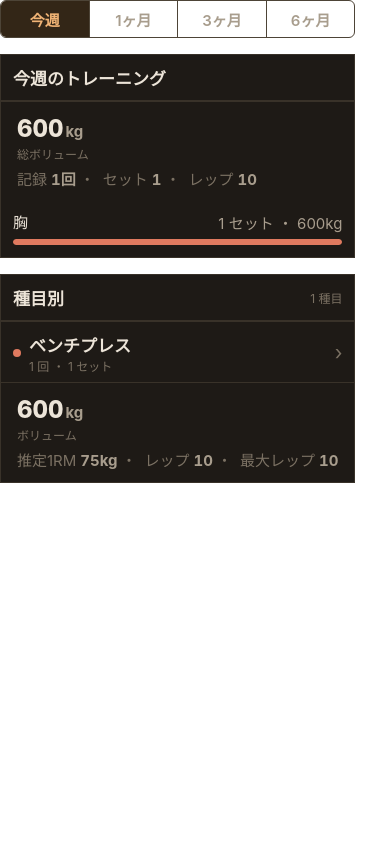
推移グラフ › 3ヶ月以上は週単位でまとめる
Click the text "3ヶ月": (222, 19) [202, 8, 242, 30]
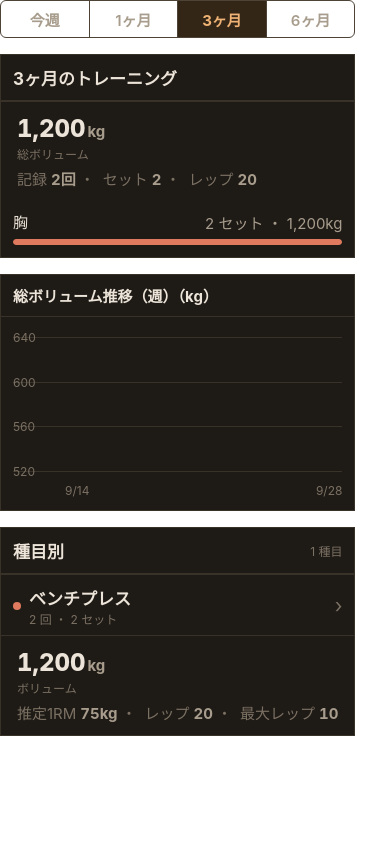
Check: the text "総ボリューム推移（週）（kg）" is shown, box [13, 287, 218, 306]
